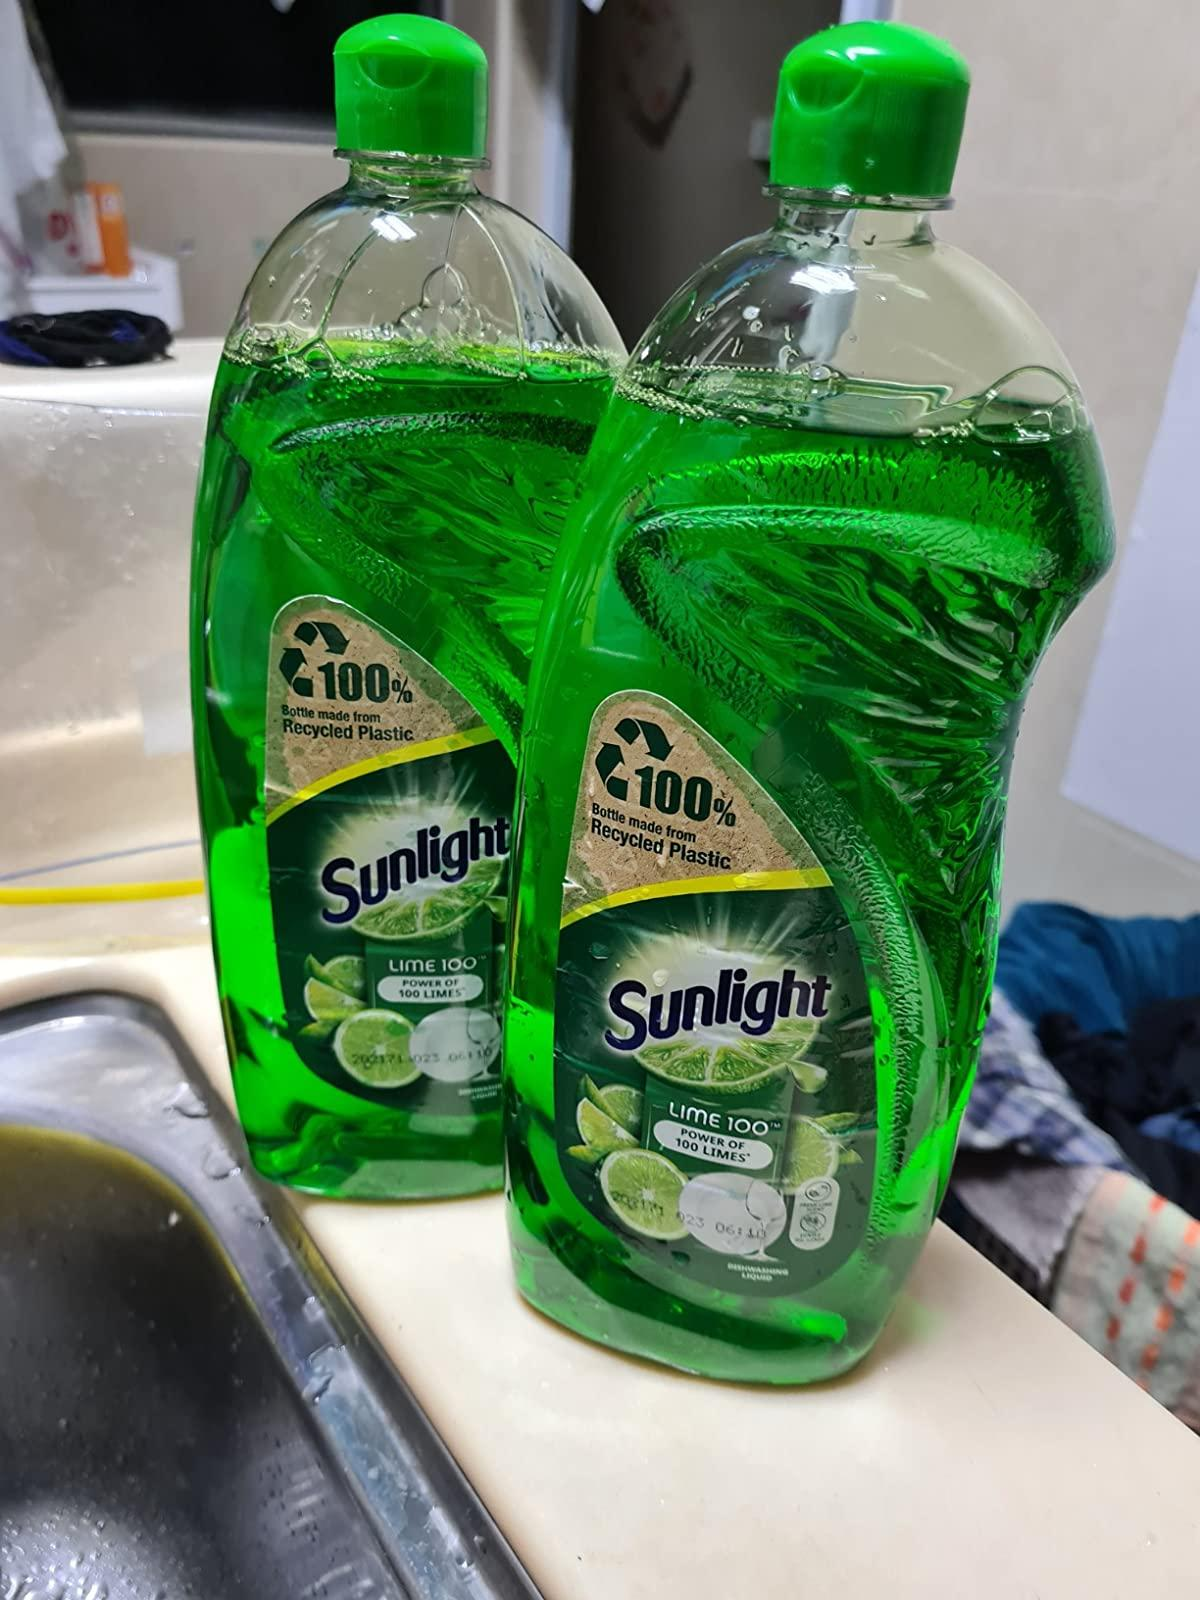plastic: (198, 15, 1117, 1397)
